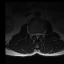CCS_normal: (36, 31, 38, 40)
LFS_normal: (40, 31, 42, 36)
LLS_normal: (38, 31, 40, 37)
RFS_stenosis: (32, 31, 34, 37)
RLS_normal: (34, 31, 36, 37)
